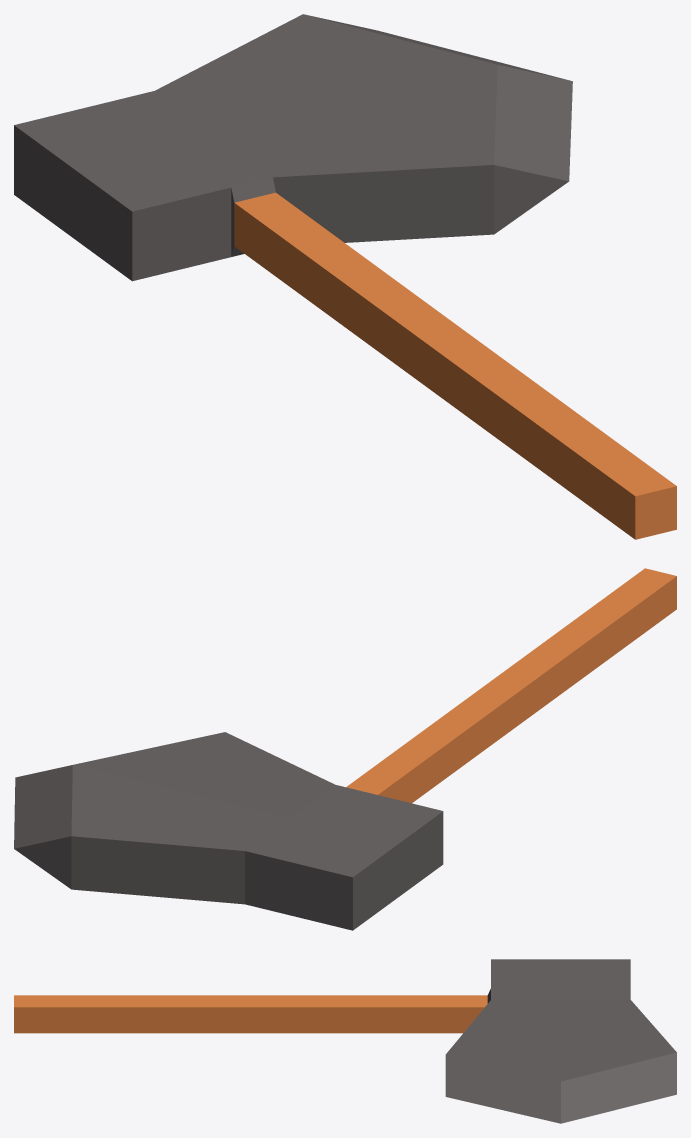
The model's file is iron_axe.glb.
The picture shows the model from 3 angles, top to bottom: view 1: azimuth 30°, elevation 25°; view 2: azimuth 150°, elevation 25°; view 3: azimuth 270°, elevation 25°; orthographic projection. The views are drawn at different scales.
Visible parts, largest first — view 1: Cube; view 2: Cube; view 3: Cube.
Part boxes in pixels (x1,y1,x2,y2): Cube: (14, 14, 676, 539); Cube: (14, 568, 676, 930); Cube: (14, 959, 676, 1123).
Bounding box in the file's own units: 7.32 × 1.06 × 14.25.
